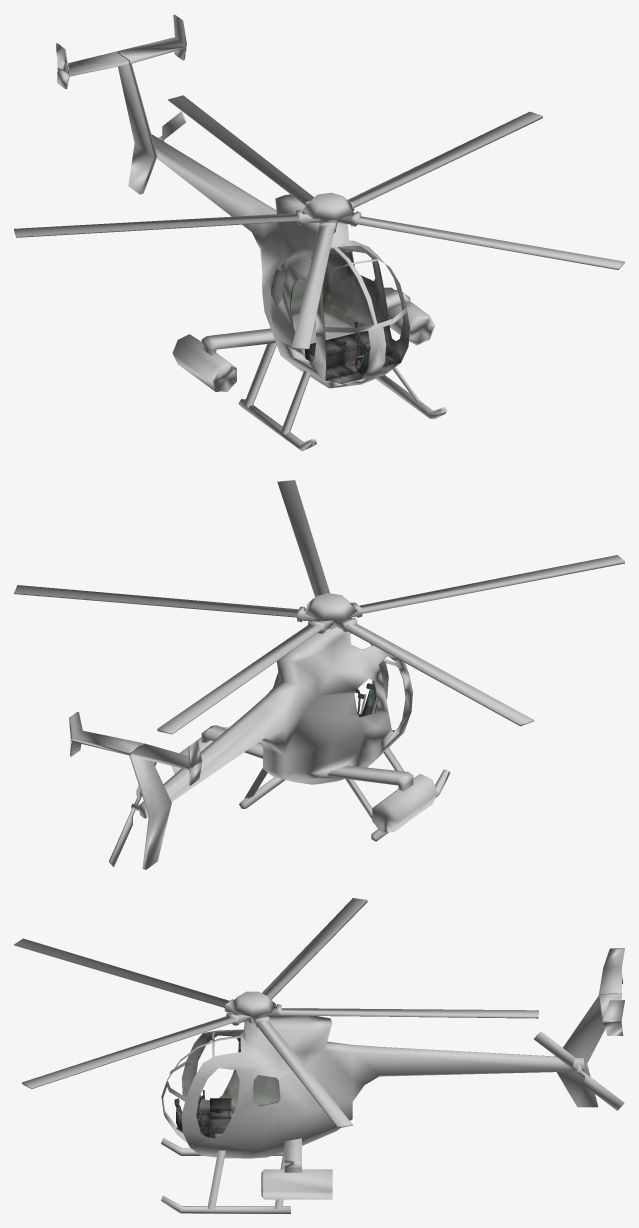
The model's file is testnoglass.fbx.
The picture shows the model from 3 angles, top to bottom: view 1: azimuth 30°, elevation 25°; view 2: azimuth 150°, elevation 25°; view 3: azimuth 270°, elevation 25°; orthographic projection. The views are drawn at different scales.
Parts seen in each view (by area): view 1: HEL_BASE, HEL_TOPROTOR, HEL_COCKPIT, HEL_FRAME; view 2: HEL_BASE, HEL_TOPROTOR, HEL_COCKPIT, HEL_TAILROTOR; view 3: HEL_BASE, HEL_TOPROTOR, HEL_COCKPIT, HEL_TAILROTOR, HEL_FRAME.
Part boxes in pixels (left/top/right/bottom): HEL_BASE: left=56, top=14, right=446, bottom=451; HEL_TOPROTOR: left=14, top=95, right=624, bottom=349; HEL_COCKPIT: left=271, top=245, right=409, bottom=383; HEL_FRAME: left=324, top=264, right=407, bottom=379; HEL_BASE: left=69, top=626, right=450, bottom=869; HEL_TOPROTOR: left=14, top=480, right=624, bottom=734; HEL_COCKPIT: left=358, top=645, right=406, bottom=731; HEL_TAILROTOR: left=109, top=761, right=156, bottom=867; HEL_BASE: left=161, top=948, right=624, bottom=1213; HEL_TOPROTOR: left=14, top=898, right=538, bottom=1128; HEL_COCKPIT: left=174, top=1030, right=280, bottom=1138; HEL_TAILROTOR: left=534, top=1031, right=624, bottom=1110; HEL_FRAME: left=161, top=1041, right=212, bottom=1133.
Size of the model in its own units: 1165 by 491 by 1315.
